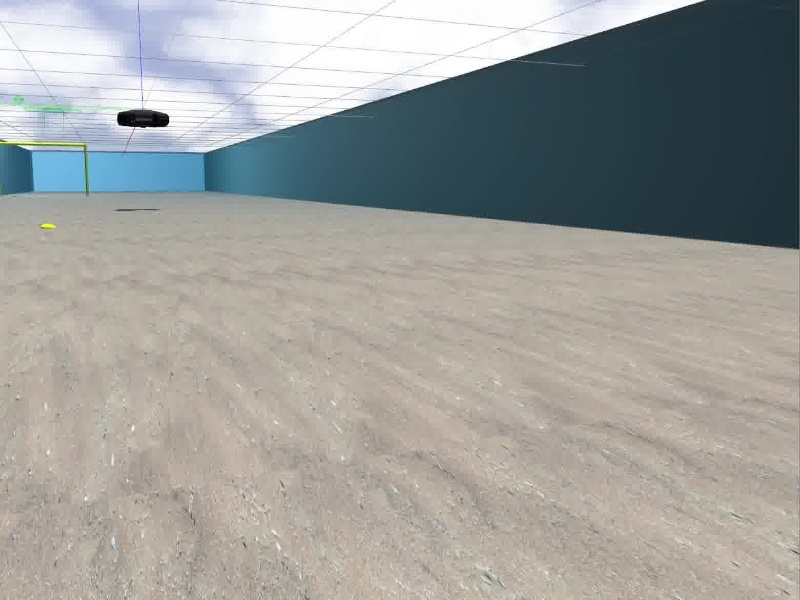gate: (1, 140, 92, 197)
